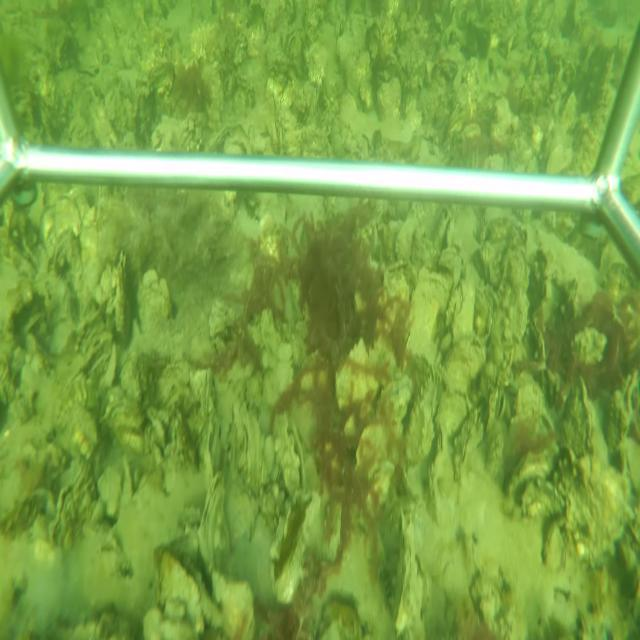Oyster-Closed: (402, 266, 452, 370), (198, 470, 228, 573), (392, 534, 414, 635), (197, 368, 218, 473), (455, 404, 482, 483), (112, 249, 131, 343), (282, 423, 306, 497), (236, 407, 258, 485), (98, 340, 117, 393), (484, 385, 504, 433)
Oyster-Indeterminate: (273, 491, 323, 603), (534, 224, 600, 296), (497, 243, 529, 349), (404, 374, 439, 466), (451, 276, 476, 341)
